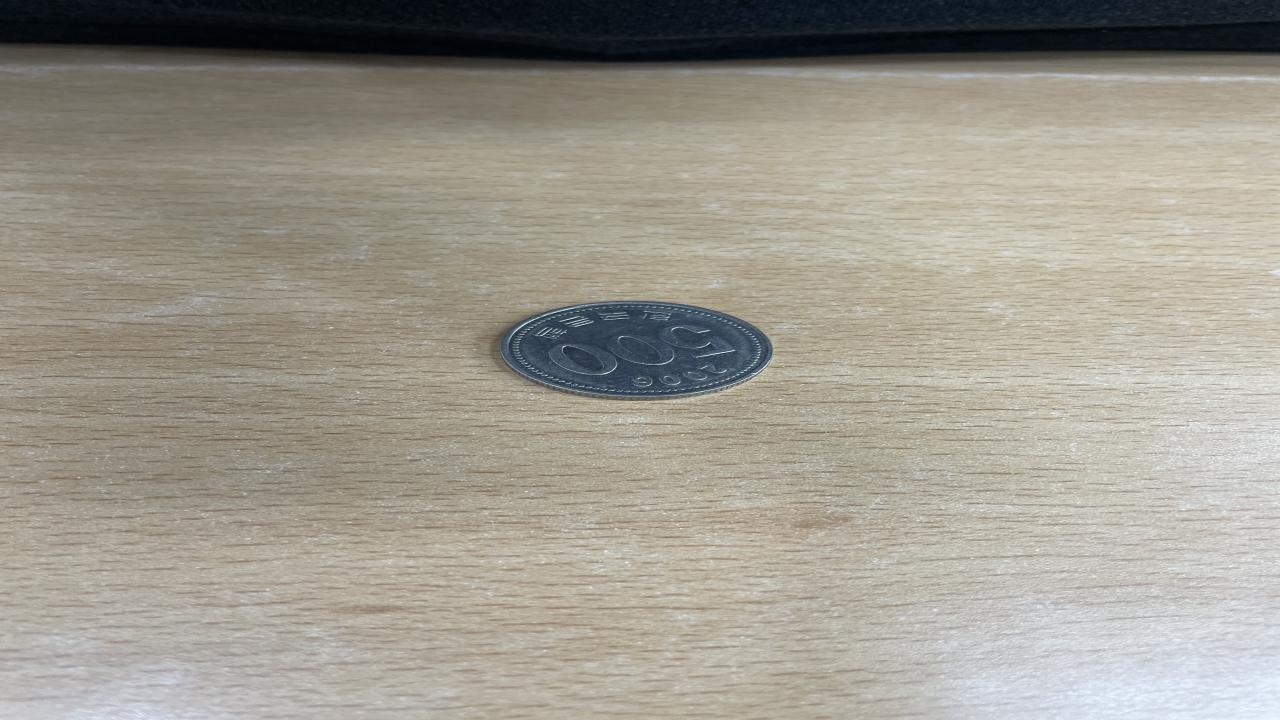coin: (491, 298, 770, 400)
